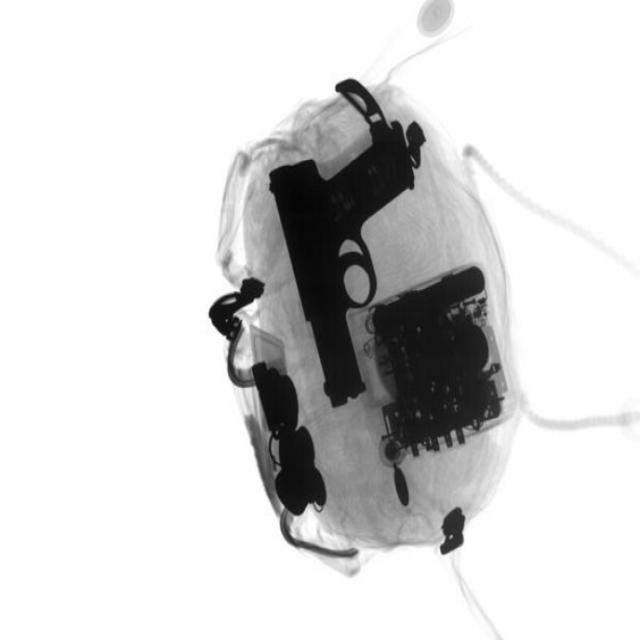GUN: (268, 143, 429, 408)
